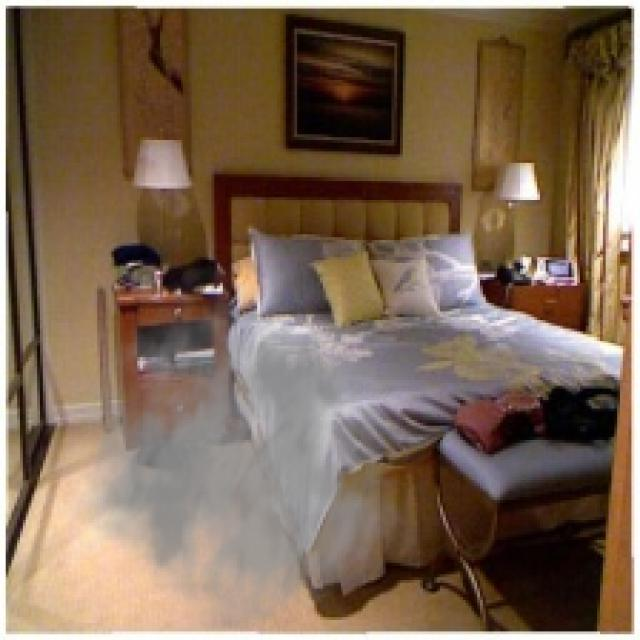smoke: (57, 260, 403, 634)
